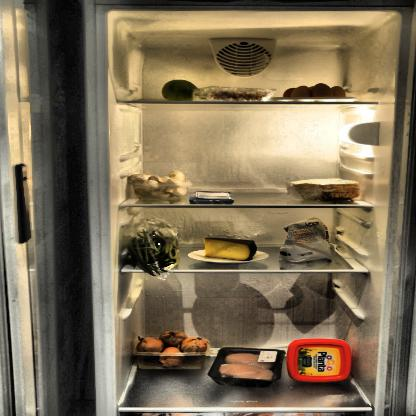apple: (160, 78, 197, 104)
butter: (286, 338, 356, 384)
cheese: (202, 236, 262, 262)
chicken: (214, 349, 285, 386)
chocolate: (189, 189, 238, 206)
eggs: (282, 82, 350, 102)
green_beans: (126, 226, 184, 277)
mushrooms: (132, 170, 186, 197)
onion: (134, 329, 208, 369)
shrimp: (195, 86, 272, 103)
